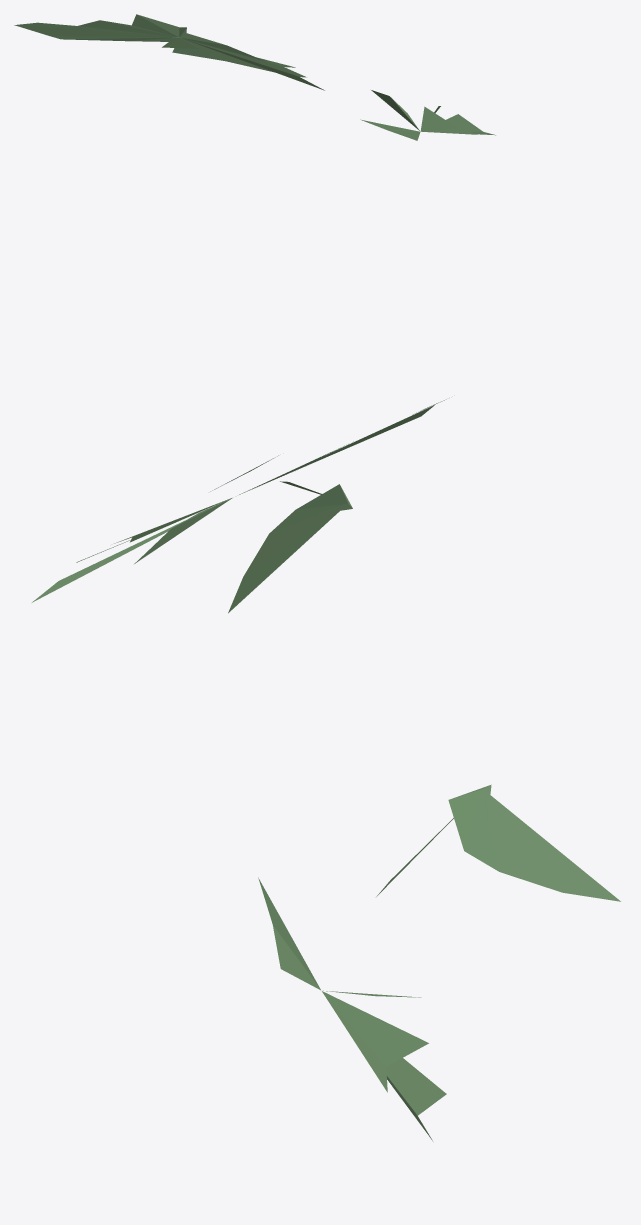
Rendered from c_1666_17821_forest.glb.
The picture shows the model from 3 angles, top to bottom: view 1: azimuth 30°, elevation 25°; view 2: azimuth 150°, elevation 25°; view 3: azimuth 270°, elevation 25°; orthographic projection. The views are drawn at different scales.
Parts seen in each view (by area): view 1: geometry_0; view 2: geometry_0; view 3: geometry_0.
Boxes of the visible parts, x1=… form: geometry_0: x1=14, y1=14, x2=495, y2=140; geometry_0: x1=32, y1=399, x2=446, y2=613; geometry_0: x1=258, y1=784, x2=620, y2=1140.
Bounding box in the file's own units: 221 × 120 × 208.
